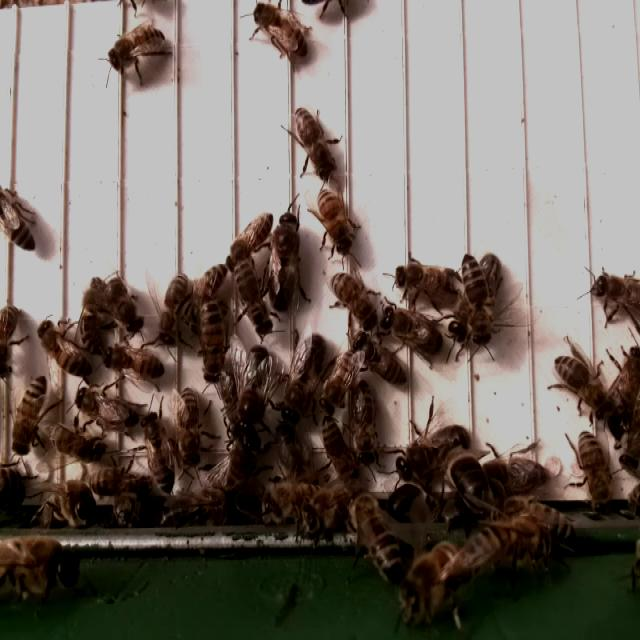Drone: (391, 418, 474, 487), (278, 330, 327, 430), (233, 340, 274, 447), (266, 209, 306, 316)
Worker: (381, 300, 448, 365), (548, 347, 609, 413), (292, 102, 338, 185), (250, 2, 312, 63), (38, 315, 94, 379), (352, 333, 410, 394), (138, 409, 178, 495), (393, 257, 462, 306), (104, 24, 169, 76), (460, 253, 494, 352), (10, 376, 50, 459), (72, 384, 138, 432), (574, 426, 611, 511), (316, 186, 358, 260), (329, 268, 379, 326), (100, 343, 166, 384), (199, 294, 228, 387), (175, 385, 206, 470), (158, 270, 190, 350)
